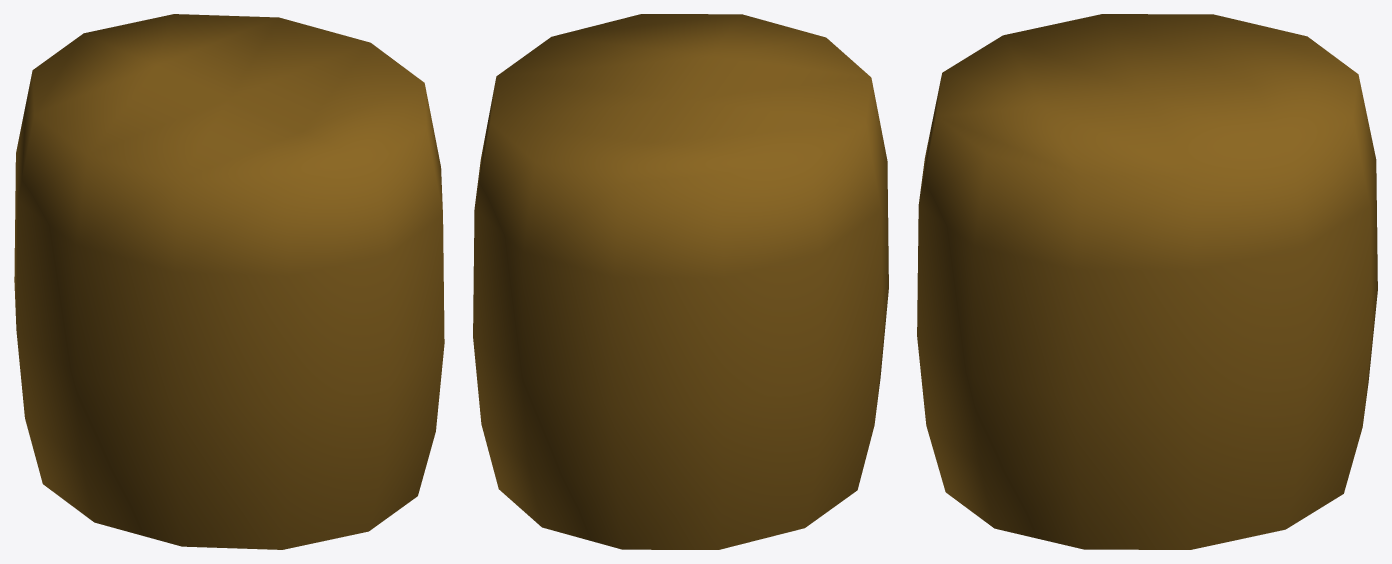
The model's file is garrafa_rolha.fbx.
3 renders of one model, left to right at view 1: azimuth 30°, elevation 25°; view 2: azimuth 150°, elevation 25°; view 3: azimuth 270°, elevation 25°, orthographic. The views are drawn at different scales.
Visible parts, largest first — view 1: garrafa_rolha; view 2: garrafa_rolha; view 3: garrafa_rolha.
Boxes of the visible parts, bbox=[...] form: garrafa_rolha: bbox=[14, 14, 444, 549]; garrafa_rolha: bbox=[473, 14, 888, 549]; garrafa_rolha: bbox=[917, 14, 1377, 549].
Bounding box in the file's own units: 1.84 × 1.82 × 2.02.
